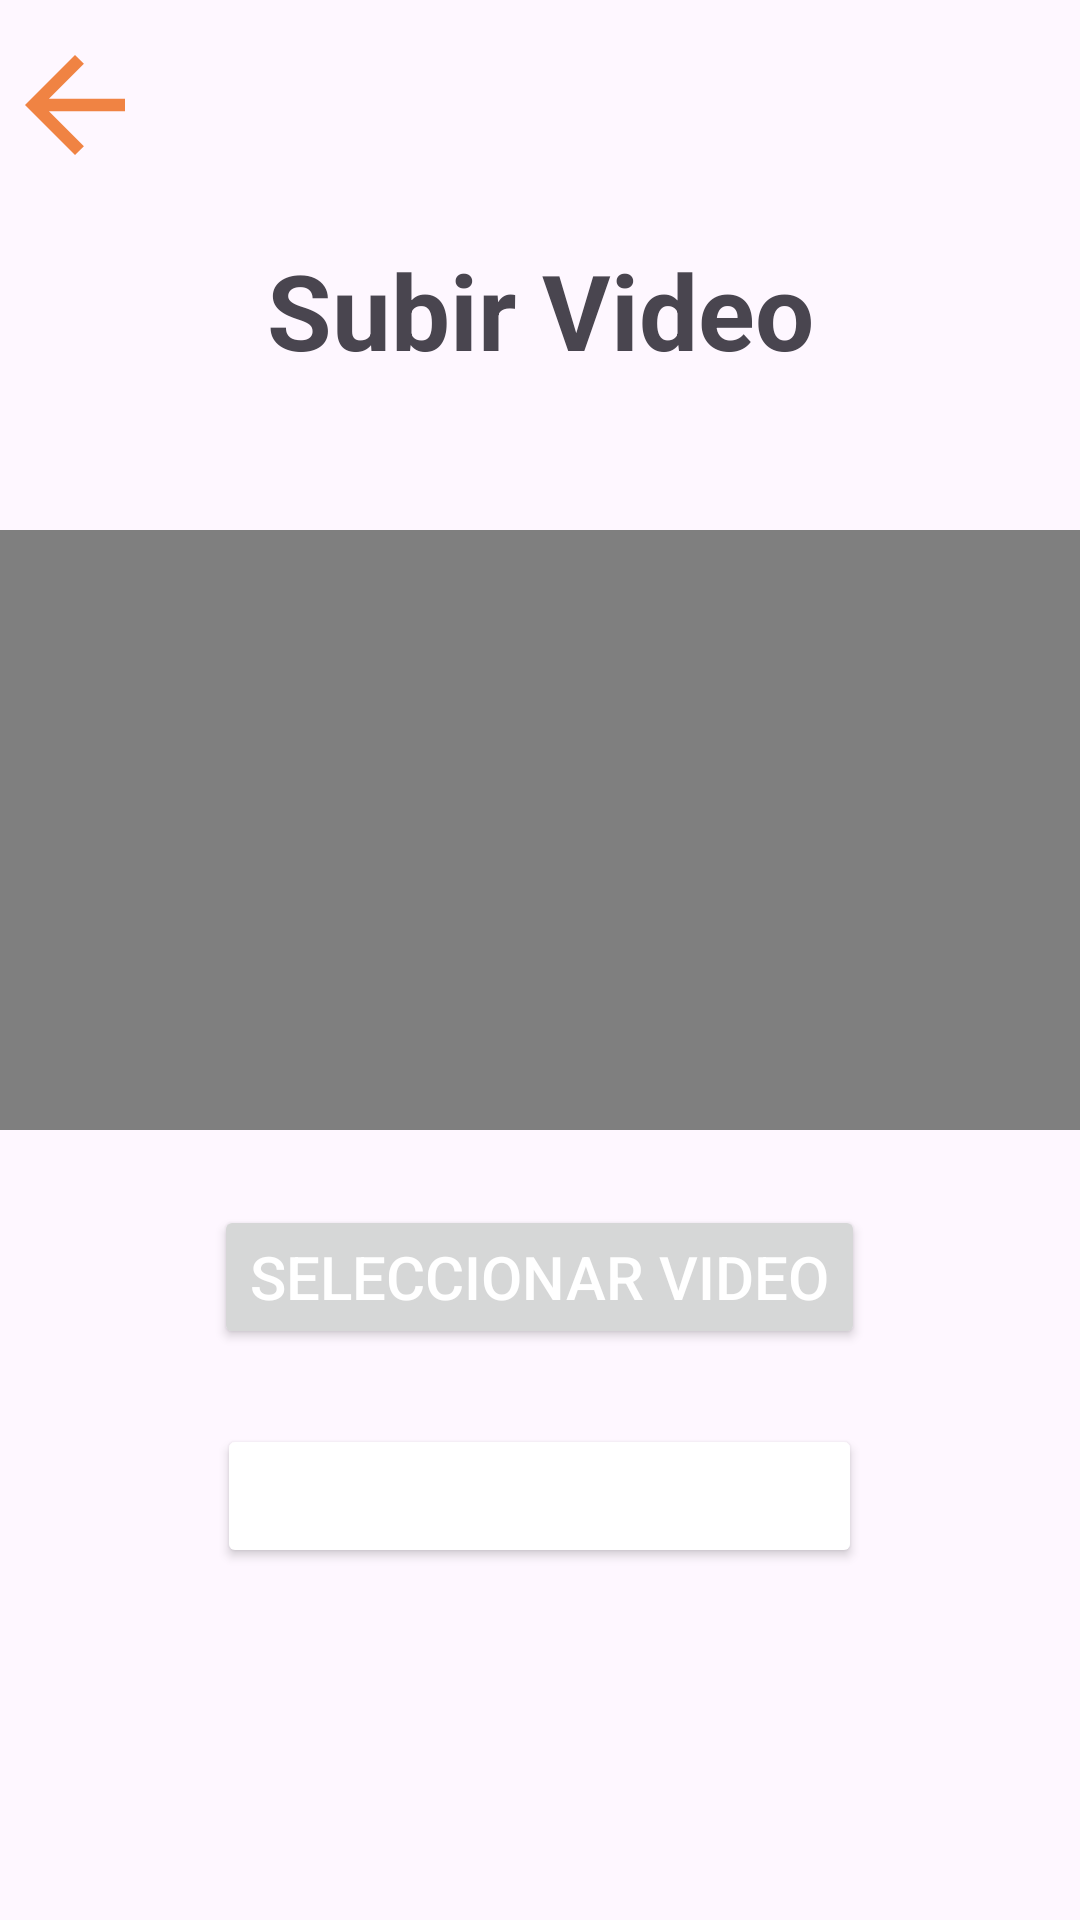

Screen size 1080×1920. Icon name, then its center in pixels as point (x, y):
back: point (75, 105)
